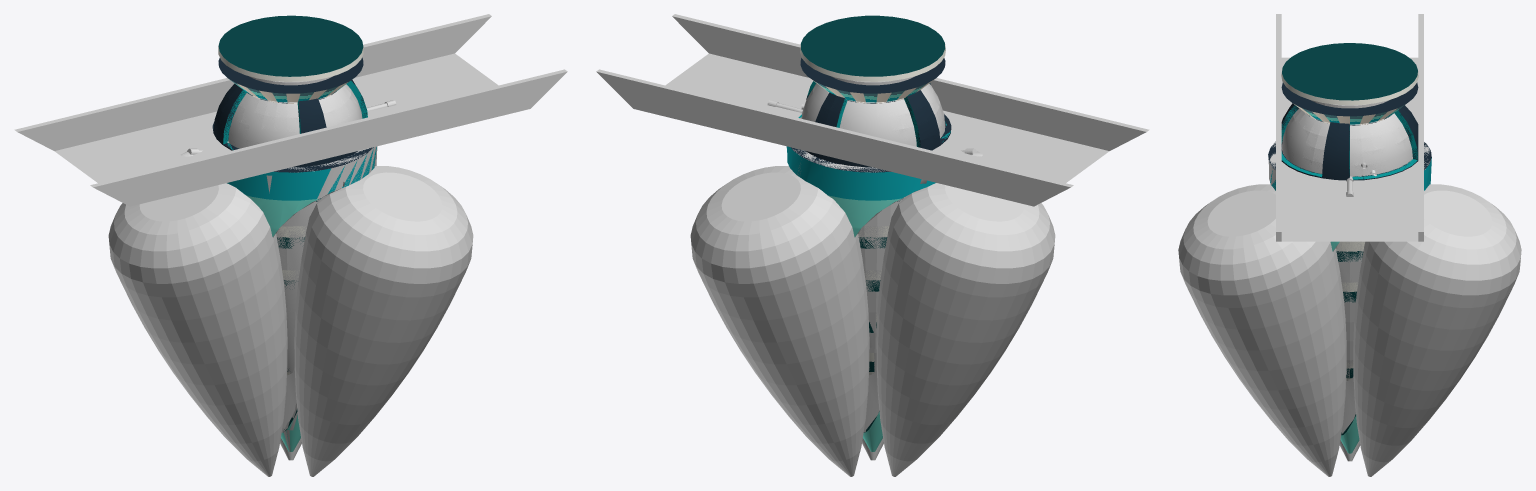
File: Buildings_Scene_Scene_Collection.fbx
3 views of the same model, side by side, from view 1: azimuth 30°, elevation 25°; view 2: azimuth 150°, elevation 25°; view 3: azimuth 270°, elevation 25° (orthographic). The views are drawn at different scales.
Parts seen in each view (by area): view 1: Cylinder.004, Cylinder.002, roadConnector, roadConnector.001, Buidling_4, Building_3, GlassDome, Building_3.002, Building_2, GlassBase, GlassDome.001, GlassBase.001 (+1 smaller); view 2: Cylinder.003, Cylinder.002, roadConnector, roadConnector.001, Buidling_4, Building_3, GlassDome, Building_2, GlassBase, Cylinder.005, GlassBase.001, GlassDome.001 (+1 smaller); view 3: Cylinder.003, Cylinder.004, roadConnector.001, roadConnector, Buidling_4, GlassDome, GlassBase, GlassDome.001, Building_2, Building_3, Cylinder.005, GlassBase.001 (+2 smaller).
Part boxes in pixels (left/top/right/bottom): Cylinder.004: left=294, top=166, right=473, bottom=476; Cylinder.002: left=108, top=183, right=287, bottom=476; roadConnector: left=14, top=14, right=567, bottom=206; roadConnector.001: left=16, top=14, right=567, bottom=204; Buidling_4: left=218, top=15, right=363, bottom=81; Building_3: left=227, top=143, right=376, bottom=451; GlassDome: left=228, top=84, right=362, bottom=148; Building_3.002: left=233, top=145, right=377, bottom=451; Building_2: left=218, top=57, right=363, bottom=103; GlassBase: left=212, top=80, right=367, bottom=167; GlassDome.001: left=229, top=85, right=357, bottom=145; GlassBase.001: left=212, top=84, right=367, bottom=149; Cylinder.003: left=690, top=166, right=869, bottom=476; Cylinder.002: left=876, top=183, right=1055, bottom=476; roadConnector: left=596, top=14, right=1149, bottom=206; roadConnector.001: left=596, top=17, right=1143, bottom=205; Buidling_4: left=800, top=15, right=945, bottom=81; Building_3: left=786, top=137, right=941, bottom=451; GlassDome: left=801, top=83, right=944, bottom=146; Building_2: left=800, top=58, right=945, bottom=103; GlassBase: left=798, top=81, right=951, bottom=167; Cylinder.005: left=858, top=198, right=903, bottom=374; GlassBase.001: left=806, top=83, right=951, bottom=148; GlassDome.001: left=802, top=83, right=945, bottom=140; Cylinder.003: left=1353, top=184, right=1521, bottom=476; Cylinder.004: left=1178, top=184, right=1346, bottom=476; roadConnector.001: left=1276, top=14, right=1423, bottom=241; roadConnector: left=1276, top=14, right=1423, bottom=241; Buidling_4: left=1281, top=43, right=1418, bottom=105; GlassDome: left=1282, top=108, right=1412, bottom=176; GlassBase: left=1281, top=103, right=1418, bottom=180; GlassDome.001: left=1284, top=108, right=1410, bottom=175; Building_2: left=1281, top=82, right=1418, bottom=125; Building_3: left=1268, top=141, right=1431, bottom=453; Cylinder.005: left=1337, top=160, right=1411, bottom=380; GlassBase.001: left=1281, top=105, right=1417, bottom=180.
Size of the model in its own units: 754 by 645 by 502.
